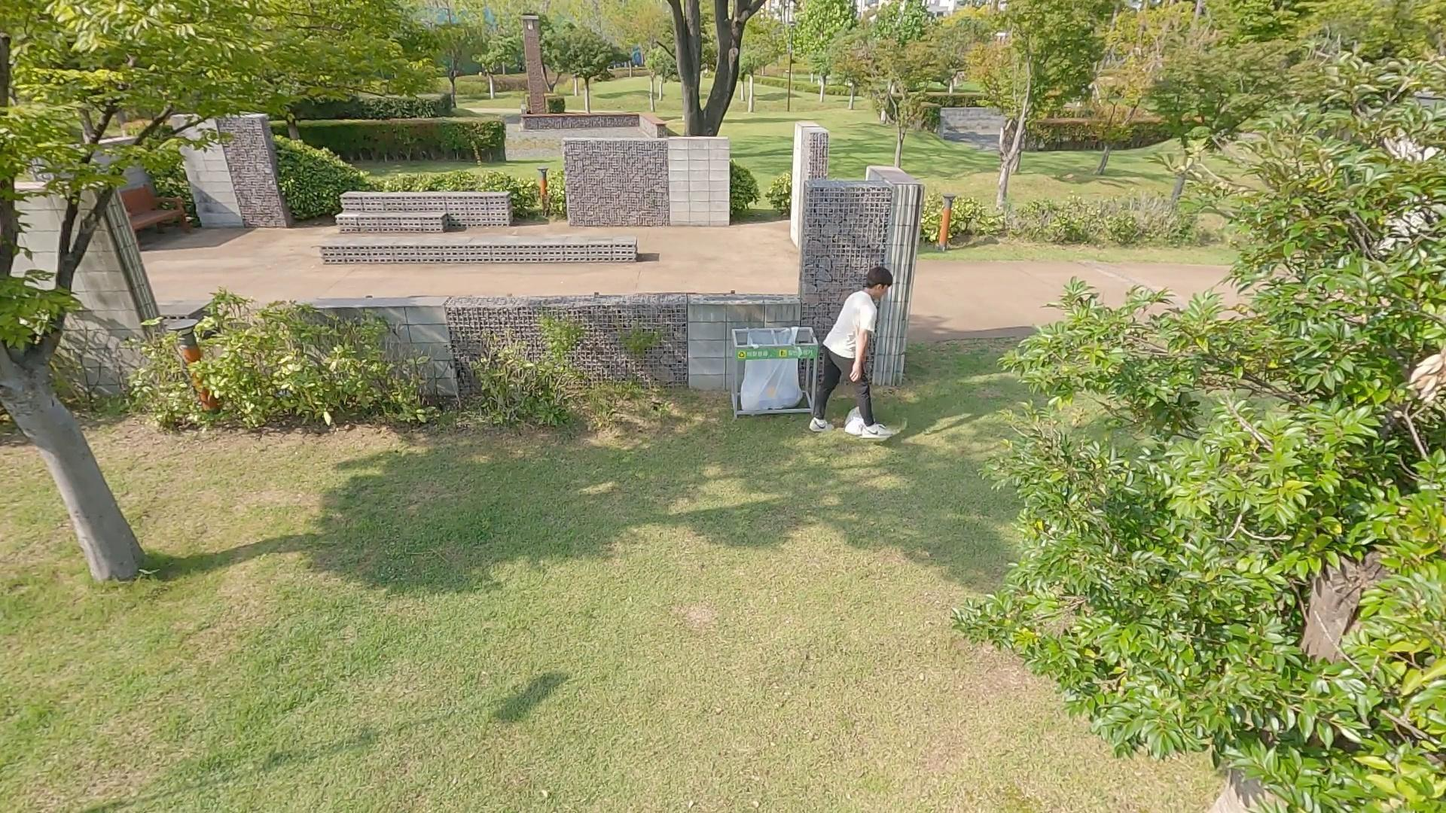person: (803, 257, 903, 450)
trash: (837, 401, 873, 441)
